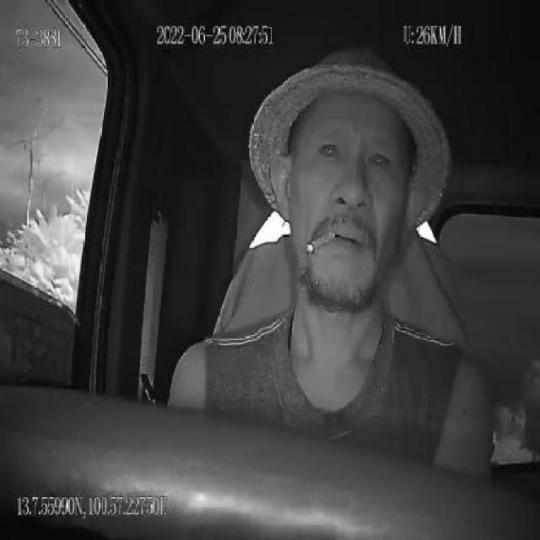smoking: (305, 223, 336, 256)
